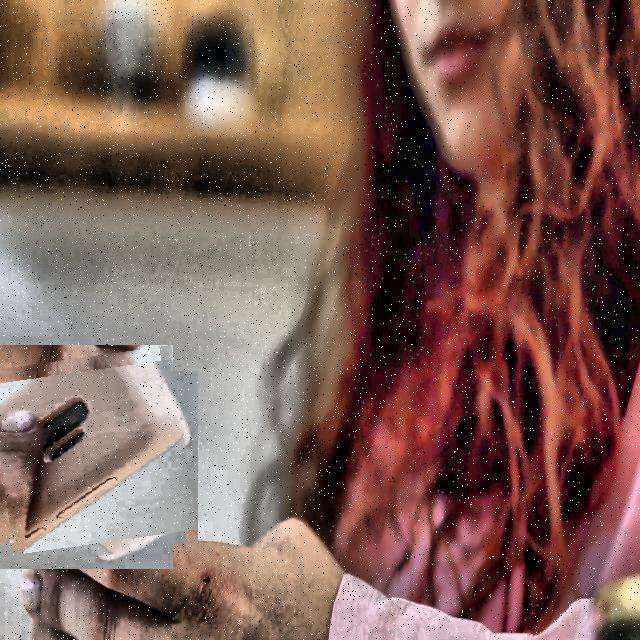Phone: (0, 351, 191, 561)
